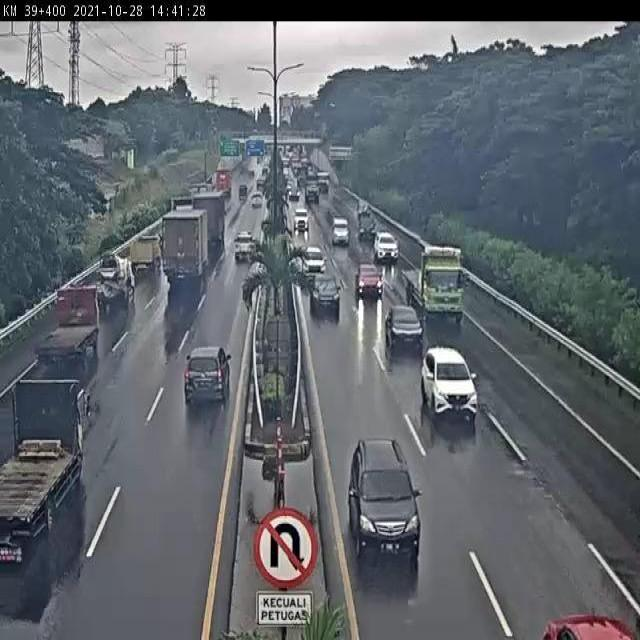car: (346, 440, 420, 561), (420, 346, 478, 422), (182, 346, 231, 406), (383, 305, 423, 352), (309, 272, 340, 316), (355, 264, 383, 299), (302, 245, 326, 278), (373, 232, 399, 261), (234, 231, 257, 261)
mid truck: (162, 208, 209, 279)
small truck: (130, 236, 161, 272)
truck-l-: (402, 245, 465, 324)
truck-m-: (0, 382, 101, 570), (34, 284, 100, 367), (95, 252, 135, 308)
